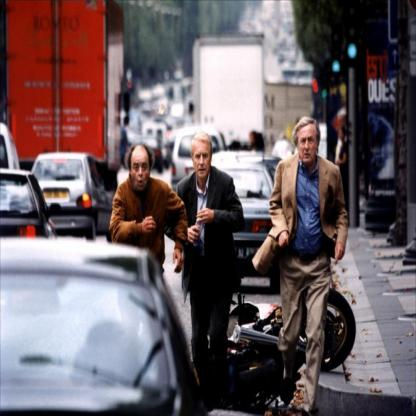face: (299, 128, 318, 163), (132, 157, 150, 192), (194, 146, 211, 178)
